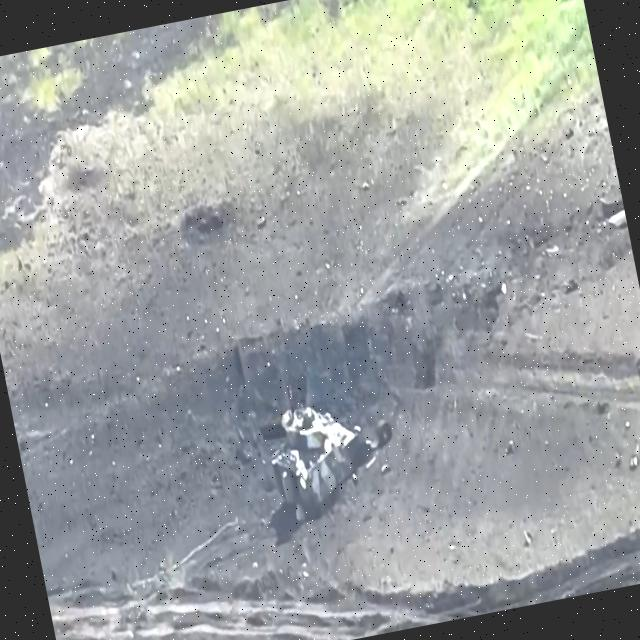AIFV: (261, 390, 378, 520)
